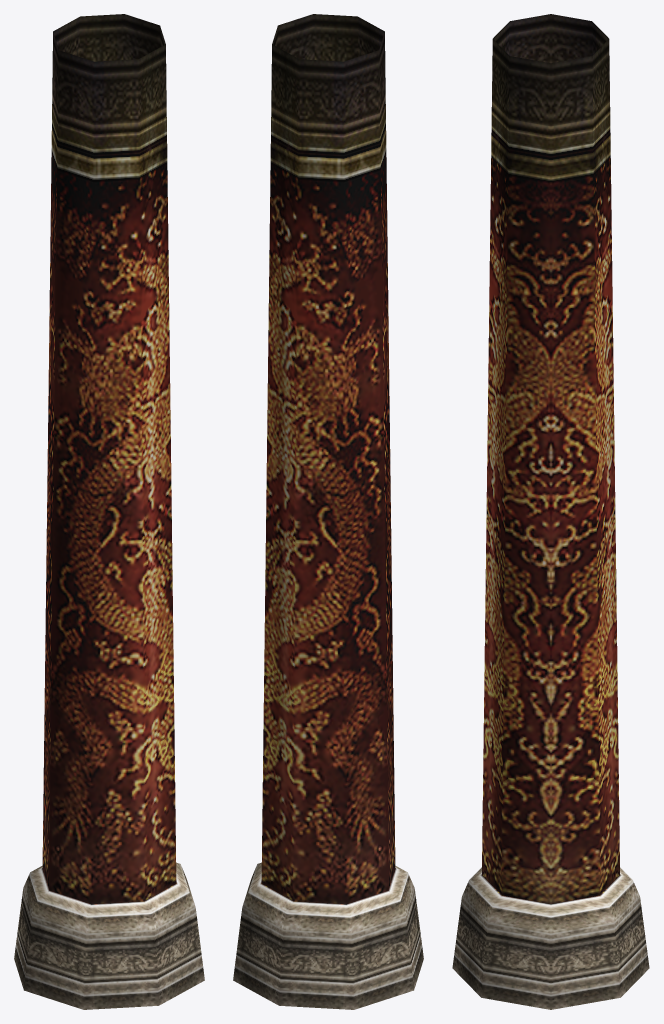
File: Kunlun_Palace_obj01.FBX
3 renders of one model, left to right at view 1: azimuth 30°, elevation 25°; view 2: azimuth 150°, elevation 25°; view 3: azimuth 270°, elevation 25°, orthographic.
Parts seen in each view (by area): view 1: Object006; view 2: Object006; view 3: Object006.
Part boxes in pixels (bbox=[...]): Object006: bbox=[14, 14, 204, 1009]; Object006: bbox=[233, 14, 423, 1009]; Object006: bbox=[452, 14, 649, 1009].
Bounding box in the file's own units: 196 × 1021 × 196.
1 material, 1 textured.
